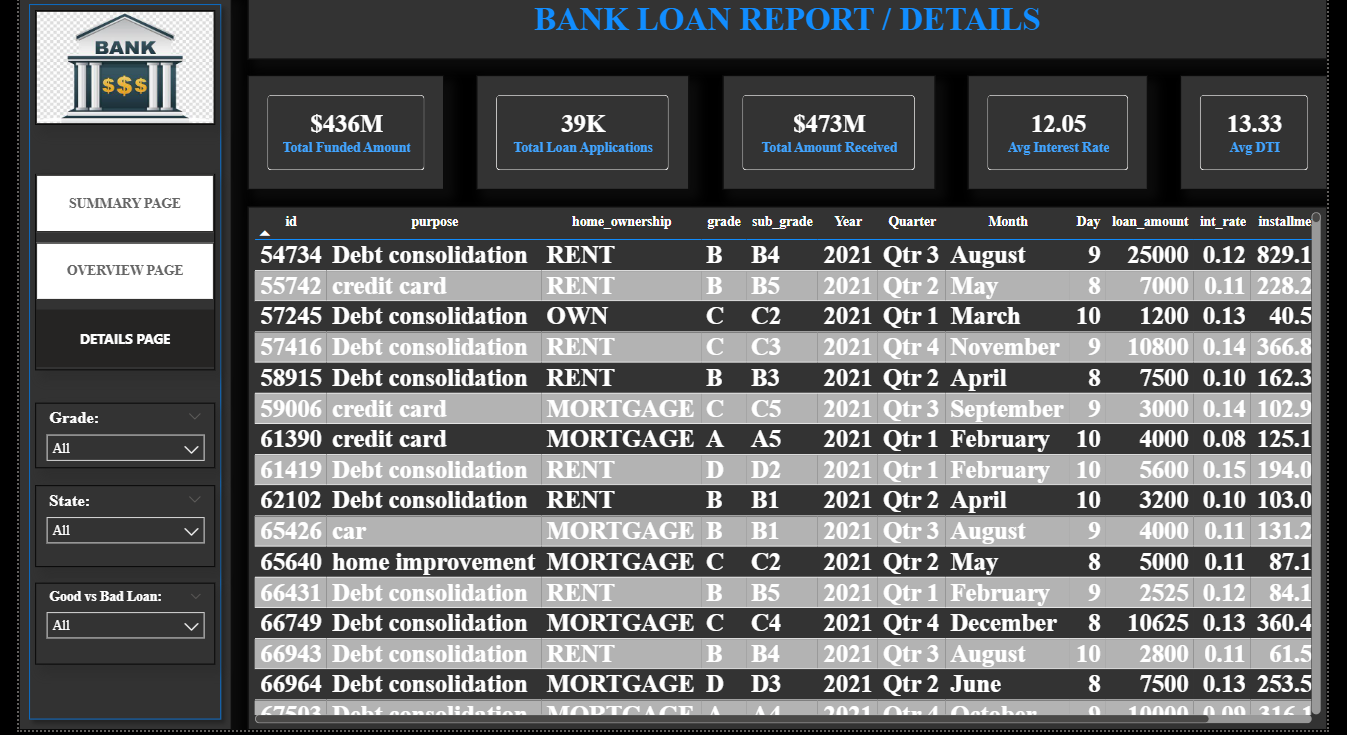

This screenshot's page, from the dashboard's own definition file:
{"tool":"powerbi","page":{"name":"DETAILS PAGE","canvas":[1280,720],"ordinal":2},"visuals":[{"type":"shape","box":[0,0,208,720],"z":0},{"type":"tableEx","fields":{"Values":["financial_loan.id","financial_loan.purpose","financial_loan.home_ownership","financial_loan.grade","financial_loan.sub_grade","financial_loan.issue_date.Variation.Date Hierarchy.Year","financial_loan.issue_date.Variation.Date Hierarchy.Quarter","financial_loan.issue_date.Variation.Date Hierarchy.Month","financial_loan.issue_date.Variation.Date Hierarchy.Day","financial_loan.loan_amount","financial_loan.int_rate","financial_loan.installment"]},"box":[224,208,1056,512],"z":1000},{"type":"textbox","box":[224,0,1056,64],"z":2000},{"type":"cardVisual","fields":{"Data":["financial_loan.Total Loan Applications"]},"box":[448,80,208,112],"z":3000},{"type":"cardVisual","fields":{"Data":["financial_loan.Total Funded Amount"]},"box":[224,80,192,112],"z":4000},{"type":"cardVisual","fields":{"Data":["financial_loan.Total Amount Received"]},"box":[688,80,208,112],"z":5000},{"type":"cardVisual","fields":{"Data":["financial_loan.Avg Interest Rate"]},"box":[928,80,176,112],"z":6000},{"type":"cardVisual","fields":{"Data":["financial_loan.Avg DTI"]},"box":[1136,80,144,112],"z":7000},{"type":"slicer","fields":{"Values":["financial_loan.grade"]},"box":[16,400,176,64],"z":8000},{"type":"slicer","fields":{"Values":["financial_loan.address_state"]},"box":[16,480,176,80],"z":9000},{"type":"slicer","fields":{"Values":["financial_loan.Loan Type"]},"box":[16,576,176,80],"z":10000},{"type":"image","box":[16,16,176,112],"z":11000},{"type":"pageNavigator","box":[16,176,176,192],"z":12000}]}

Visuals, with their boxes on the page's 1280x720 design canvas (x1, y1, x2, y2). These are canvas units, not pixel positions in the 1347x735 screenshot, which may show the page scaled, cropped or inside an application window:
shape: {"left": 0, "top": 0, "right": 208, "bottom": 720}
tableEx - financial_loan.id x financial_loan.purpose: {"left": 224, "top": 208, "right": 1280, "bottom": 720}
textbox: {"left": 224, "top": 0, "right": 1280, "bottom": 64}
cardVisual - financial_loan.Total Loan Applications: {"left": 448, "top": 80, "right": 656, "bottom": 192}
cardVisual - financial_loan.Total Funded Amount: {"left": 224, "top": 80, "right": 416, "bottom": 192}
cardVisual - financial_loan.Total Amount Received: {"left": 688, "top": 80, "right": 896, "bottom": 192}
cardVisual - financial_loan.Avg Interest Rate: {"left": 928, "top": 80, "right": 1104, "bottom": 192}
cardVisual - financial_loan.Avg DTI: {"left": 1136, "top": 80, "right": 1280, "bottom": 192}
slicer - financial_loan.grade: {"left": 16, "top": 400, "right": 192, "bottom": 464}
slicer - financial_loan.address_state: {"left": 16, "top": 480, "right": 192, "bottom": 560}
slicer - financial_loan.Loan Type: {"left": 16, "top": 576, "right": 192, "bottom": 656}
image: {"left": 16, "top": 16, "right": 192, "bottom": 128}
pageNavigator: {"left": 16, "top": 176, "right": 192, "bottom": 368}
